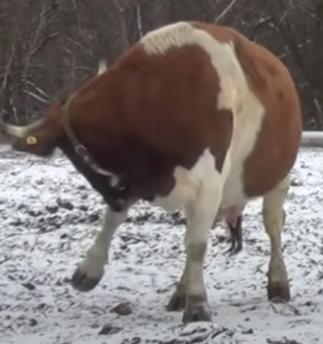cow: (15, 23, 302, 324)
